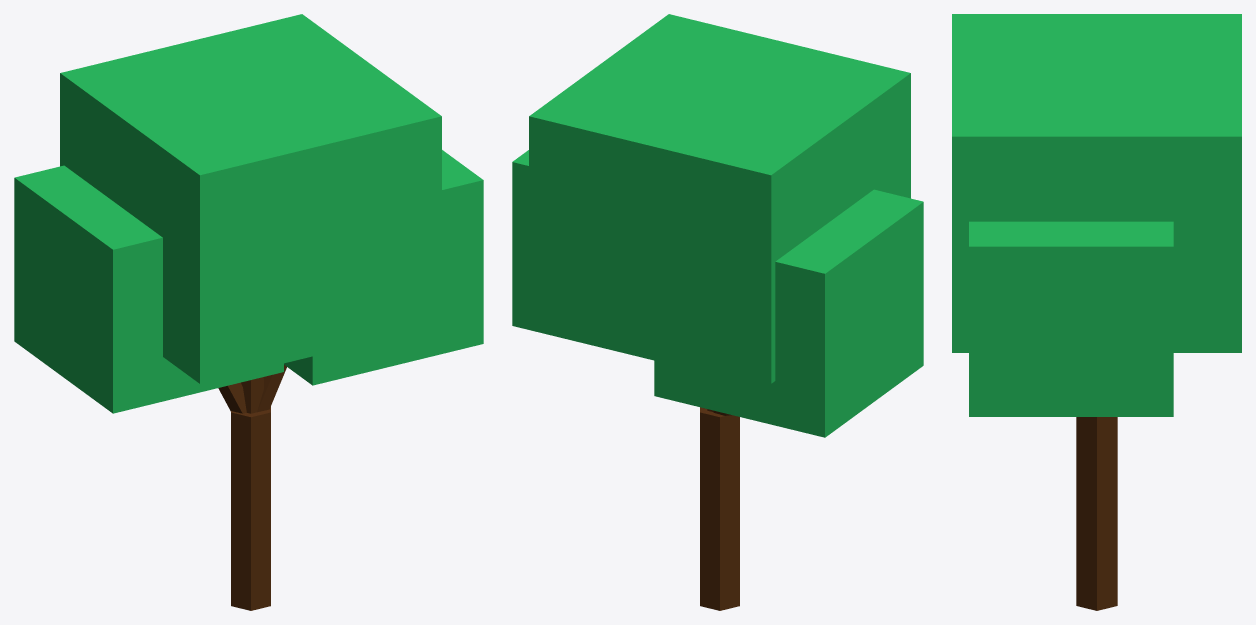
Rendered from tree_deciduous.glb.
3 views of the same model, side by side, from view 1: azimuth 30°, elevation 25°; view 2: azimuth 150°, elevation 25°; view 3: azimuth 270°, elevation 25° (orthographic). The views are drawn at different scales.
Parts seen in each view (by area): view 1: Tree_Deciduous_Oak; view 2: Tree_Deciduous_Oak; view 3: Tree_Deciduous_Oak.
Part boxes in pixels (bbox=[...]): Tree_Deciduous_Oak: bbox=[14, 14, 483, 610]; Tree_Deciduous_Oak: bbox=[512, 14, 923, 610]; Tree_Deciduous_Oak: bbox=[952, 14, 1241, 610].
Bounding box in the file's own units: 4.8 × 6.8 × 3.4.
